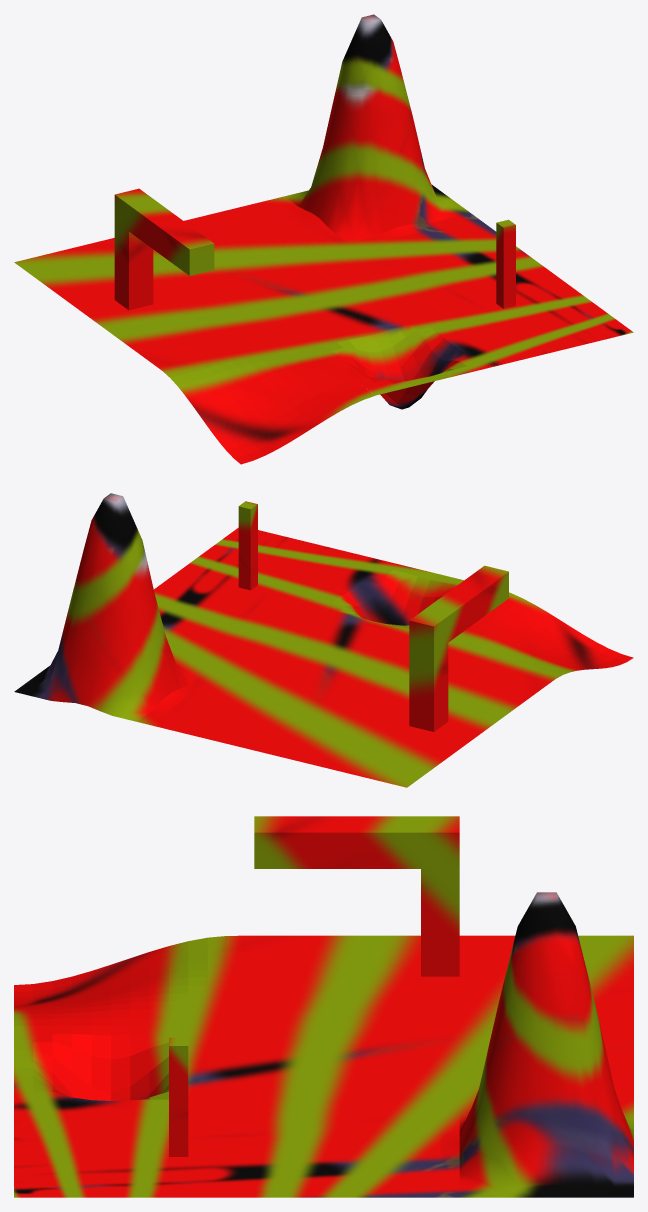
The model's file is teste.obj.
The picture shows the model from 3 angles, top to bottom: view 1: azimuth 30°, elevation 25°; view 2: azimuth 150°, elevation 25°; view 3: azimuth 270°, elevation 25°; orthographic projection. The views are drawn at different scales.
Parts seen in each view (by area): view 1: Terrain_Mesh_Mesh_Mesh_Cube.001, Mountain_Mesh_Mesh_Mesh_Cube.004, Hole_Mesh_Mesh_Mesh_Cube.003, Lshape_Mesh_Mesh_Mesh_Cube.002, Pillar_Mesh_Mesh_Mesh_Cube.000; view 2: Terrain_Mesh_Mesh_Mesh_Cube.001, Mountain_Mesh_Mesh_Mesh_Cube.004, Lshape_Mesh_Mesh_Mesh_Cube.002, Hole_Mesh_Mesh_Mesh_Cube.003, Pillar_Mesh_Mesh_Mesh_Cube.000; view 3: Terrain_Mesh_Mesh_Mesh_Cube.001, Mountain_Mesh_Mesh_Mesh_Cube.004, Lshape_Mesh_Mesh_Mesh_Cube.002, Hole_Mesh_Mesh_Mesh_Cube.003, Pillar_Mesh_Mesh_Mesh_Cube.000.
Boxes of the visible parts, <box> form: Terrain_Mesh_Mesh_Mesh_Cube.001: <box>14,196,633,464</box>; Mountain_Mesh_Mesh_Mesh_Cube.004: <box>284,14,470,242</box>; Hole_Mesh_Mesh_Mesh_Cube.003: <box>312,322,486,409</box>; Lshape_Mesh_Mesh_Mesh_Cube.002: <box>114,188,214,310</box>; Pillar_Mesh_Mesh_Mesh_Cube.000: <box>496,219,515,308</box>; Terrain_Mesh_Mesh_Mesh_Cube.001: <box>137,527,633,787</box>; Mountain_Mesh_Mesh_Mesh_Cube.004: <box>14,493,200,721</box>; Lshape_Mesh_Mesh_Mesh_Cube.002: <box>409,565,508,731</box>; Hole_Mesh_Mesh_Mesh_Cube.003: <box>325,562,463,628</box>; Pillar_Mesh_Mesh_Mesh_Cube.000: <box>238,501,257,590</box>; Terrain_Mesh_Mesh_Mesh_Cube.001: <box>14,935,633,1197</box>; Mountain_Mesh_Mesh_Mesh_Cube.004: <box>459,892,633,1197</box>; Lshape_Mesh_Mesh_Mesh_Cube.002: <box>254,816,459,976</box>; Hole_Mesh_Mesh_Mesh_Cube.003: <box>14,1026,188,1100</box>; Pillar_Mesh_Mesh_Mesh_Cube.000: <box>169,1037,188,1156</box>.
Bounding box in the file's own units: 17.27 × 10.2 × 17.27.
